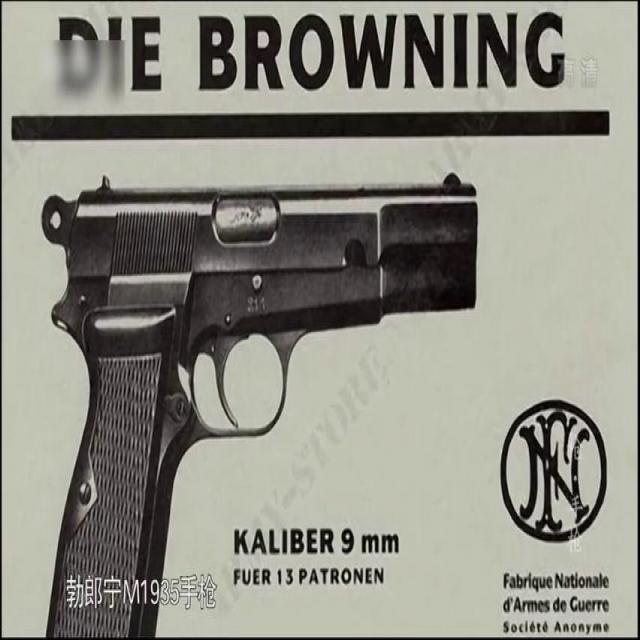rifle: (40, 172, 478, 638), (41, 172, 479, 355), (189, 331, 285, 434), (213, 195, 279, 244)
